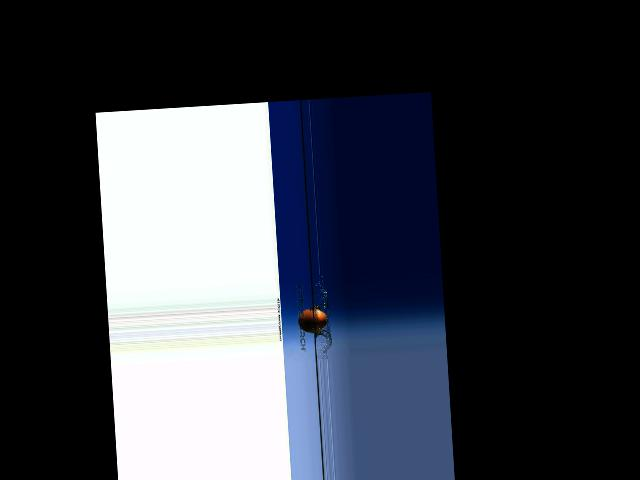egg: (297, 307, 327, 333)
